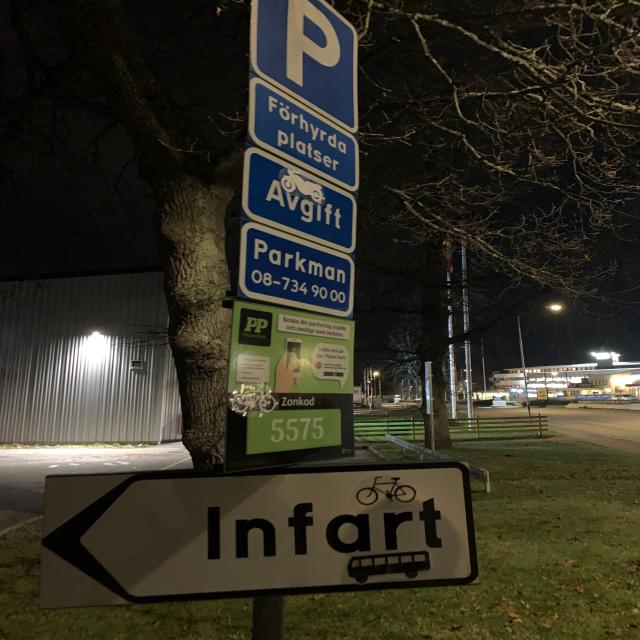psign: (251, 0, 360, 132)
